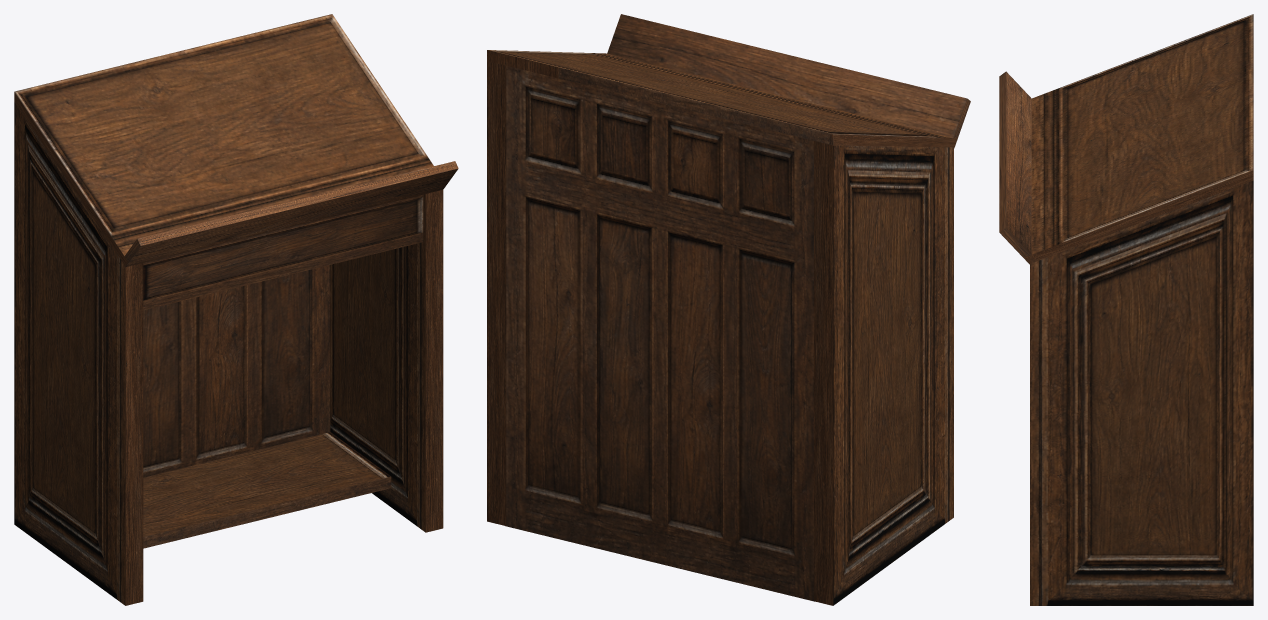
Rendered from mm9_deco_podium01.glb.
The picture shows the model from 3 angles, left to right: view 1: azimuth 30°, elevation 25°; view 2: azimuth 150°, elevation 25°; view 3: azimuth 270°, elevation 25°; orthographic projection. The views are drawn at different scales.
Parts seen in each view (by area): view 1: Podium01; view 2: Podium01; view 3: Podium01.
Part boxes in pixels (<box>): Podium01: <box>14,14,458,605</box>; Podium01: <box>487,14,970,605</box>; Podium01: <box>999,14,1253,605</box>.
Bounding box in the file's own units: 1.3 × 1.69 × 0.8912.
1 material, 1 textured.
